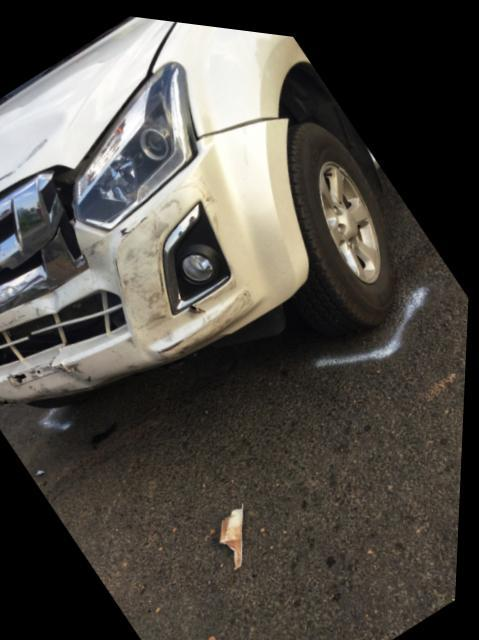crack: (53, 340, 67, 363)
dent: (0, 73, 93, 194), (37, 363, 92, 391), (33, 289, 63, 312)
dislocated part: (0, 112, 311, 404)
scratch: (113, 206, 258, 351)
